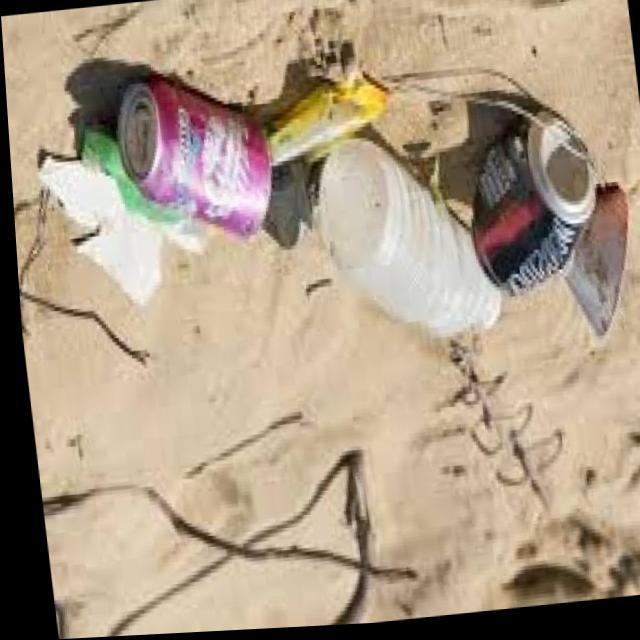clothes: (96, 66, 286, 260), (447, 117, 598, 318), (537, 187, 640, 359)
food: (32, 103, 221, 332)
leaf: (291, 138, 503, 413), (245, 80, 397, 200)
